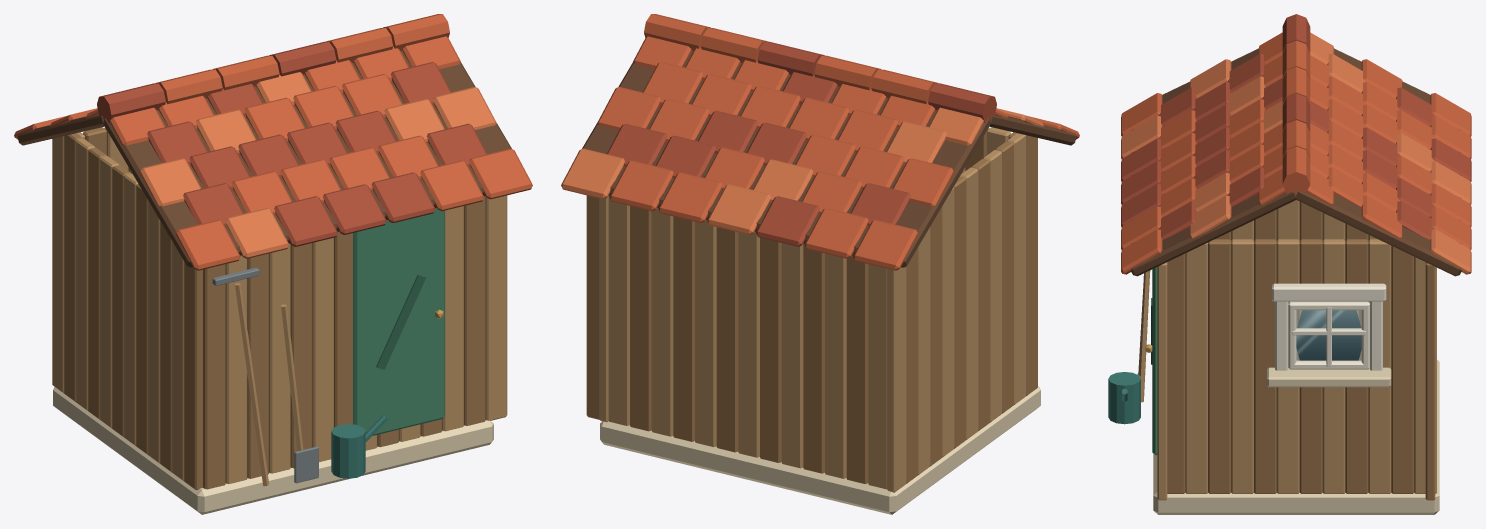
3 renders of one model, left to right at view 1: azimuth 30°, elevation 25°; view 2: azimuth 150°, elevation 25°; view 3: azimuth 270°, elevation 25°, orthographic. The views are drawn at different scales.
Visible parts, largest first — view 1: lane_wood_light, lane_wood, lane_terracotta, lane_terracotta_dark, lane_shutter, lane_terracotta_light, lane_limestone, lane_timber, lane_teal, lane_rail, lane_shutter_dark; view 2: lane_wood_light, lane_wood, lane_terracotta, lane_terracotta_dark, lane_limestone, lane_terracotta_light, lane_timber; view 3: lane_wood, lane_wood_light, lane_terracotta, lane_terracotta_dark, lane_terracotta_light, lane_limestone, lane_white, lane_timber, lane_window_pane, lane_teal, lane_shutter.
Boxes of the visible parts, x1,y1,x2,y2 form: lane_wood_light: (52,127,507,486); lane_wood: (64,127,485,489); lane_terracotta: (14,14,532,270); lane_terracotta_dark: (97,41,486,246); lane_shutter: (353,208,444,435); lane_terracotta_light: (86,72,496,258); lane_limestone: (53,387,493,514); lane_timber: (17,50,511,267); lane_teal: (331,415,387,478); lane_rail: (212,267,318,483); lane_shutter_dark: (376,275,425,369); lane_wood_light: (599,127,1025,492); lane_wood: (586,127,1037,483); lane_terracotta: (597,14,1079,270); lane_terracotta_dark: (607,41,996,246); lane_limestone: (600,386,1040,514); lane_terracotta_light: (561,107,1043,234); lane_timber: (582,50,1076,267); lane_wood: (1167,202,1435,500); lane_wood_light: (1138,200,1436,500); lane_terracotta: (1121,32,1471,274); lane_terracotta_dark: (1121,14,1471,239); lane_terracotta_light: (1121,32,1471,274); lane_limestone: (1153,359,1439,514); lane_white: (1272,283,1386,370); lane_timber: (1131,48,1461,276); lane_window_pane: (1288,301,1369,360); lane_teal: (1108,372,1140,424); lane_shutter: (1152,267,1157,455).
Bounding box in the file's own units: 2.3 × 2.39 × 2.22.
Materials: 14 (1 with a texture image).
